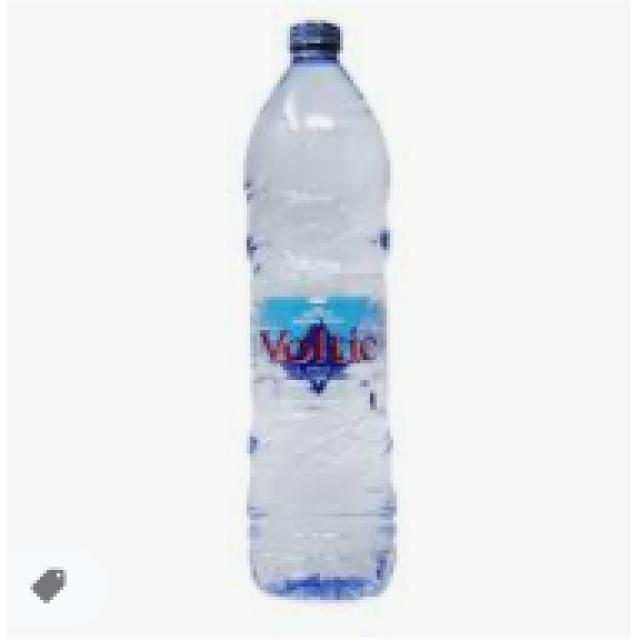plasticbottle: (234, 13, 404, 613)
